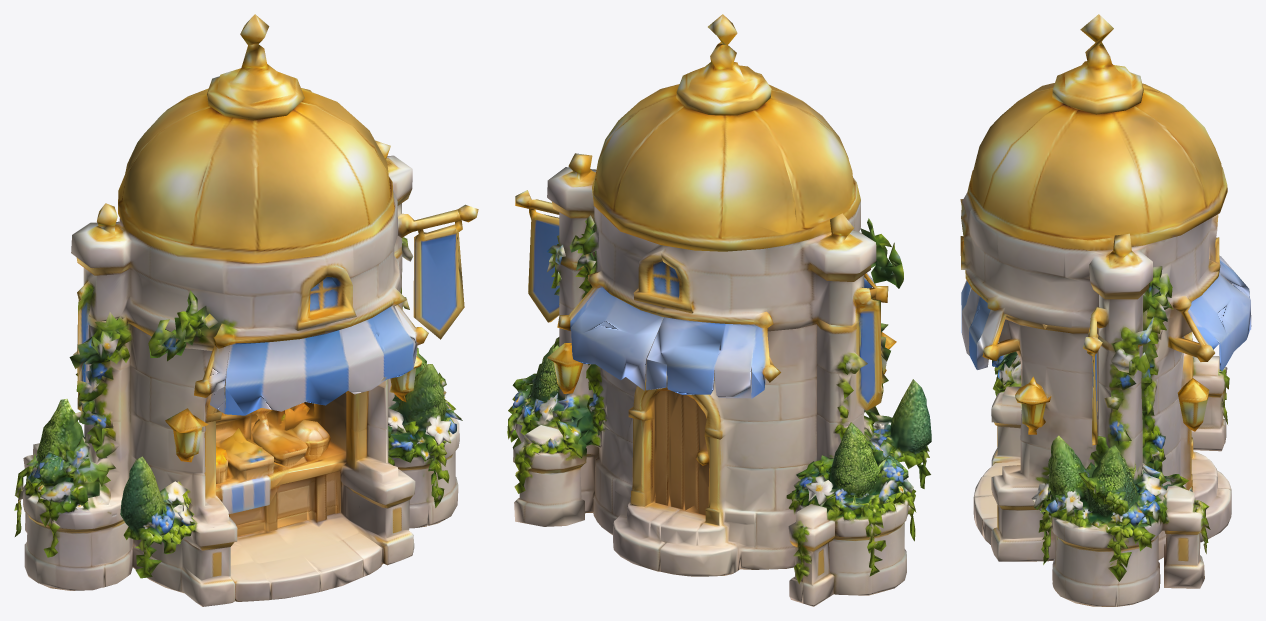
Rendered from Halo_Shop_HD_plain.glb.
3 renders of one model, left to right at view 1: azimuth 30°, elevation 25°; view 2: azimuth 150°, elevation 25°; view 3: azimuth 270°, elevation 25°, orthographic. The views are drawn at different scales.
Parts seen in each view (by area): view 1: tripo_node_6e881dff-bf6c-48b7-92ee-679f6eafb441; view 2: tripo_node_6e881dff-bf6c-48b7-92ee-679f6eafb441; view 3: tripo_node_6e881dff-bf6c-48b7-92ee-679f6eafb441.
Part boxes in pixels (x1,y1,x2,y2): tripo_node_6e881dff-bf6c-48b7-92ee-679f6eafb441: (14,14,478,606); tripo_node_6e881dff-bf6c-48b7-92ee-679f6eafb441: (507,14,931,606); tripo_node_6e881dff-bf6c-48b7-92ee-679f6eafb441: (960,14,1251,606).
Bounding box in the file's own units: 0.8123 × 0.9665 × 0.5077.
1 material, 1 textured.
